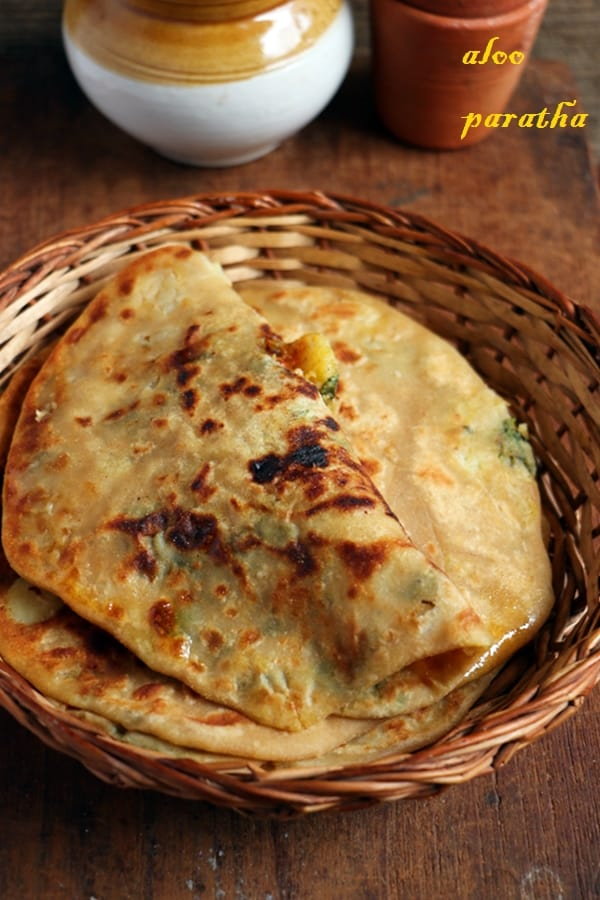aloo_paratha: (6, 238, 553, 765)
